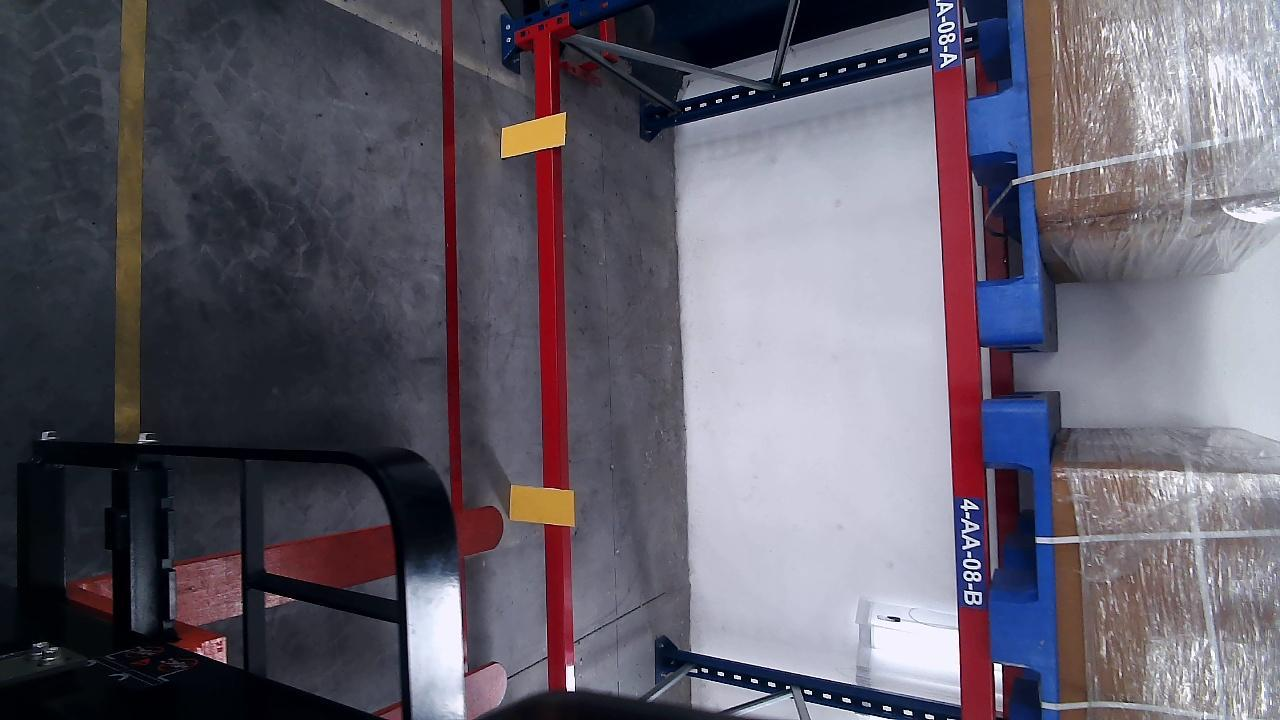h_rack: (929, 0, 996, 718), (530, 31, 567, 691)
orange_strip: (507, 482, 573, 527), (500, 113, 565, 158)
red_line: (438, 2, 464, 511)
small_pallet: (959, 1, 1044, 336), (981, 407, 1062, 720)
yellow_line: (115, 0, 148, 440)
